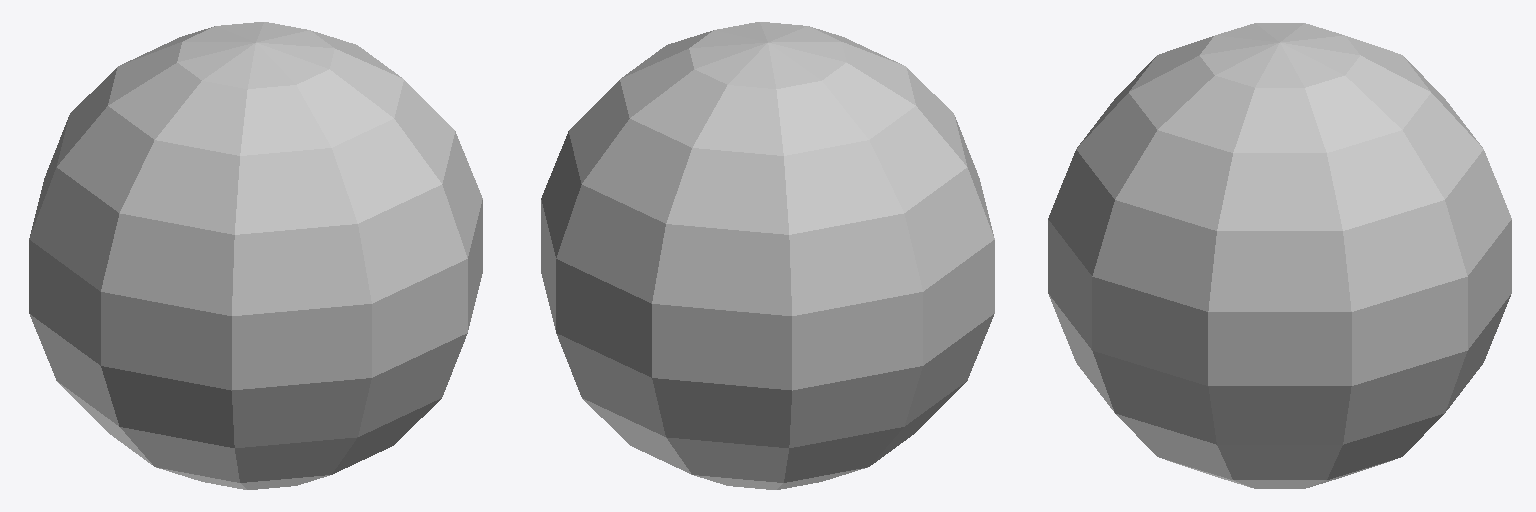
File: globetv2.obj
The picture shows the model from 3 angles: view 1: azimuth 30°, elevation 25°; view 2: azimuth 150°, elevation 25°; view 3: azimuth 270°, elevation 25°; orthographic projection.
Parts seen in each view (by area): view 1: sphere-2_Sphere.010; view 2: sphere-2_Sphere.010; view 3: sphere-2_Sphere.010.
Boxes of the visible parts, x1,y1,x2,y2 form: sphere-2_Sphere.010: [29, 22, 482, 489]; sphere-2_Sphere.010: [541, 22, 994, 489]; sphere-2_Sphere.010: [1048, 23, 1511, 488].
Bounding box in the file's own units: 2.81 × 3 × 2.95.